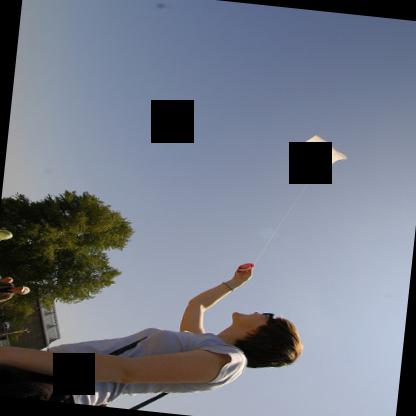handbag: (0, 372, 59, 401)
